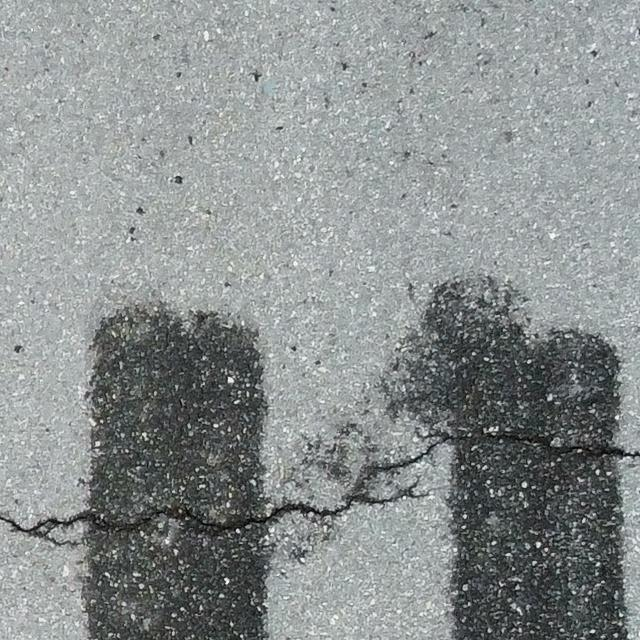TransverseCrack: (1, 433, 640, 550)
